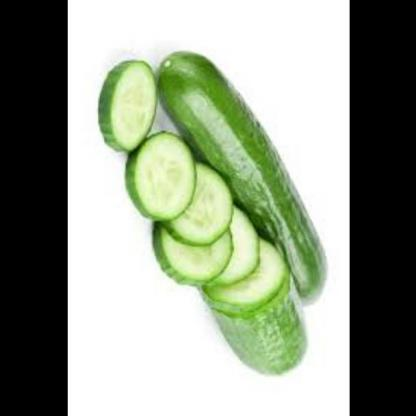cucumber: (160, 52, 329, 310), (205, 251, 314, 388), (96, 52, 172, 157), (190, 202, 266, 299), (124, 133, 202, 223), (157, 212, 238, 296), (167, 165, 242, 251)
